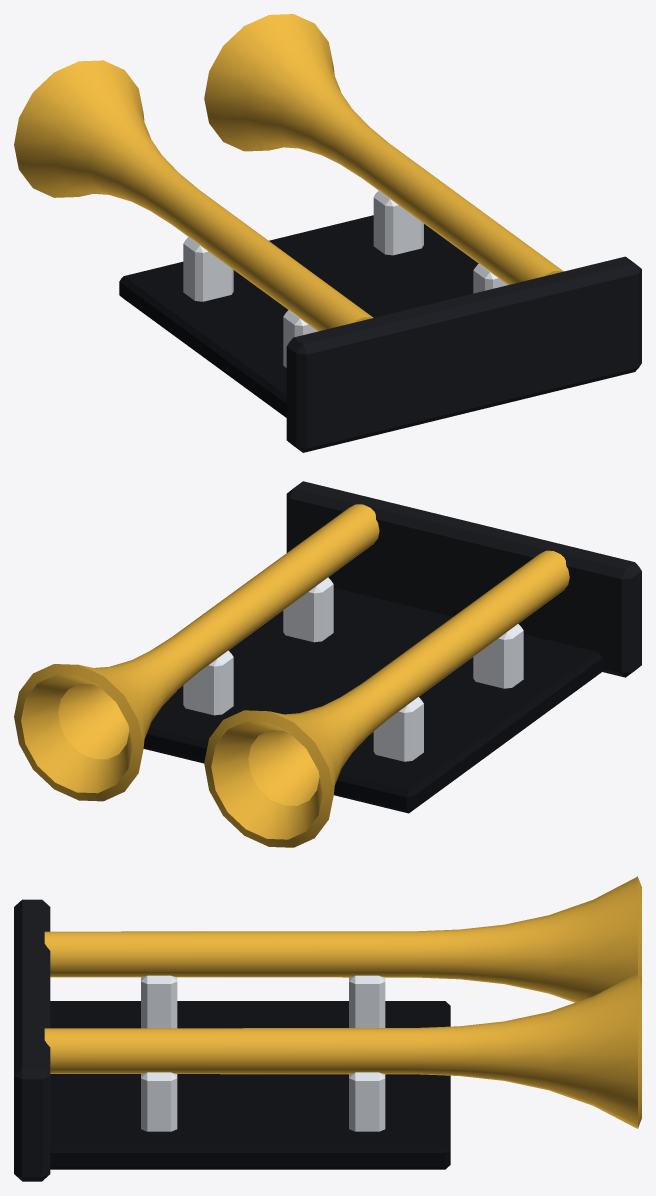
File: horn_twin_long.glb
3 renders of one model, top to bottom at view 1: azimuth 30°, elevation 25°; view 2: azimuth 150°, elevation 25°; view 3: azimuth 270°, elevation 25°, orthographic. The views are drawn at different scales.
Visible parts, largest first — view 1: horn_twin_long_paint_gold, horn_twin_long_deco_body, horn_twin_long_deco_trim, horn_twin_long_chrome; view 2: horn_twin_long_paint_gold, horn_twin_long_deco_trim, horn_twin_long_deco_body, horn_twin_long_chrome; view 3: horn_twin_long_paint_gold, horn_twin_long_deco_trim, horn_twin_long_deco_body, horn_twin_long_chrome.
Boxes of the visible parts, x1,y1,x2,y2 form: horn_twin_long_paint_gold: (14, 14, 563, 331); horn_twin_long_deco_body: (286, 256, 641, 452); horn_twin_long_deco_trim: (119, 215, 478, 417); horn_twin_long_chrome: (183, 191, 507, 367); horn_twin_long_paint_gold: (14, 504, 569, 847); horn_twin_long_deco_trim: (143, 588, 603, 813); horn_twin_long_deco_body: (286, 481, 641, 677); horn_twin_long_chrome: (183, 577, 523, 761); horn_twin_long_paint_gold: (44, 876, 641, 1128); horn_twin_long_deco_trim: (50, 1001, 450, 1169); horn_twin_long_deco_body: (14, 899, 50, 1181); horn_twin_long_chrome: (141, 975, 385, 1131).
Bounding box in the file's own units: 0.4 × 0.175 × 0.6035.
